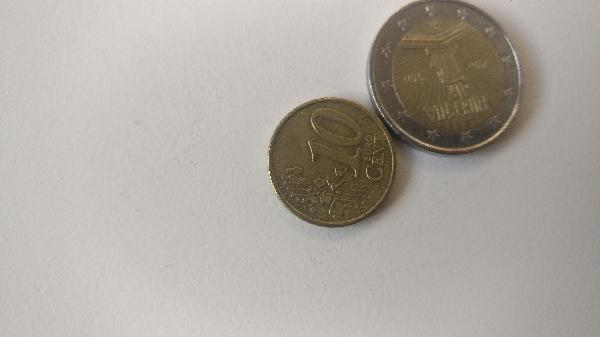Ten Cent: (264, 92, 394, 230)
Two Euro: (369, 2, 523, 155)
